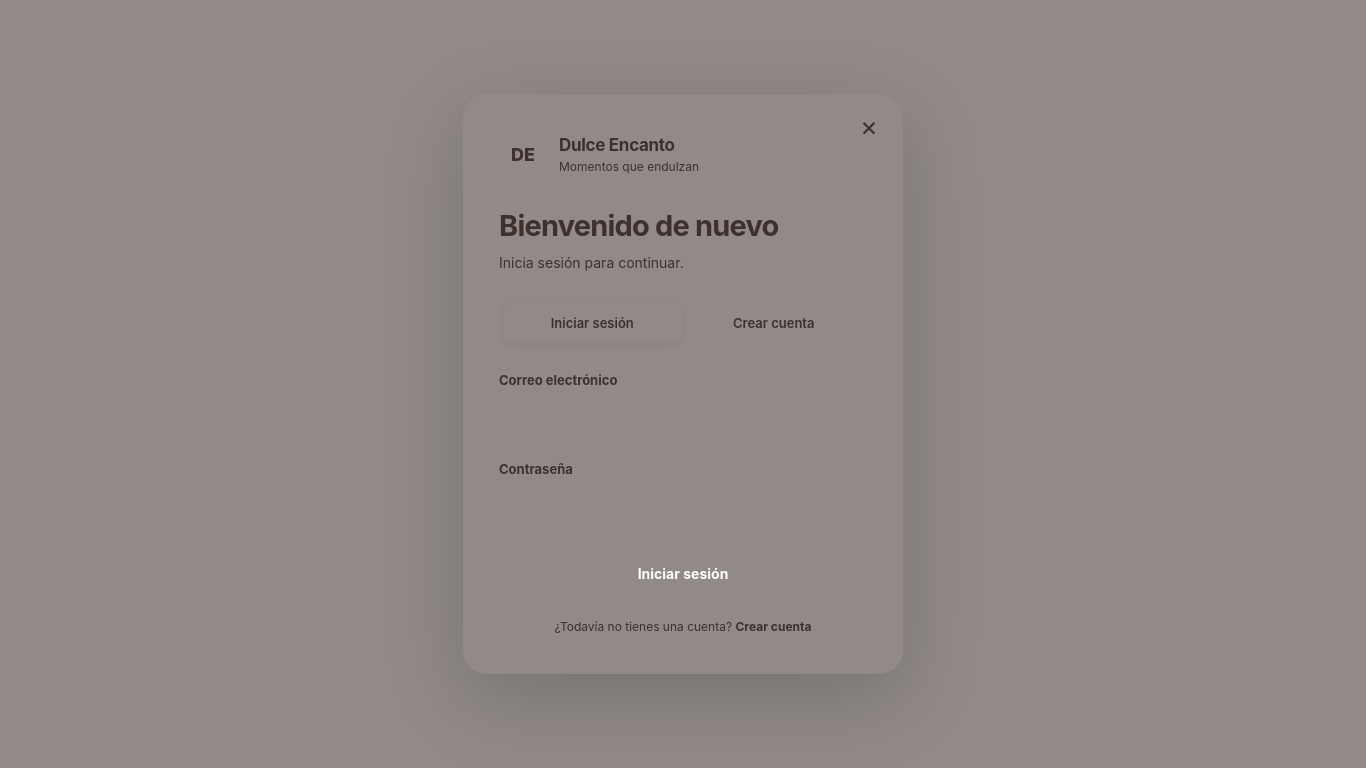
Test: Auth › permite volver del registro al inicio de sesión desde la pestaña superior
Click the 1st button "Crear cuenta".
click(774, 323)  # box [686,303,862,343]
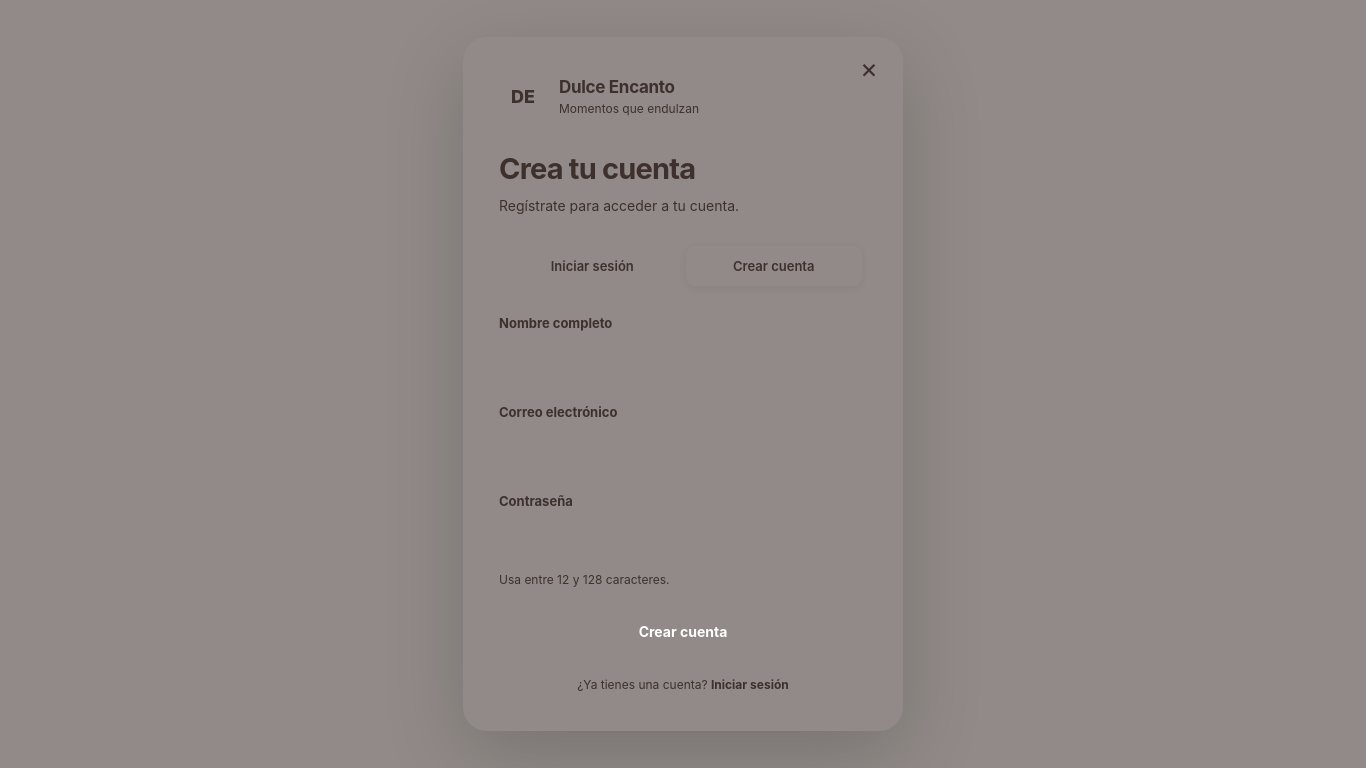
Click the 1st button "Iniciar sesión".
click(592, 266)  # box [504,246,680,286]
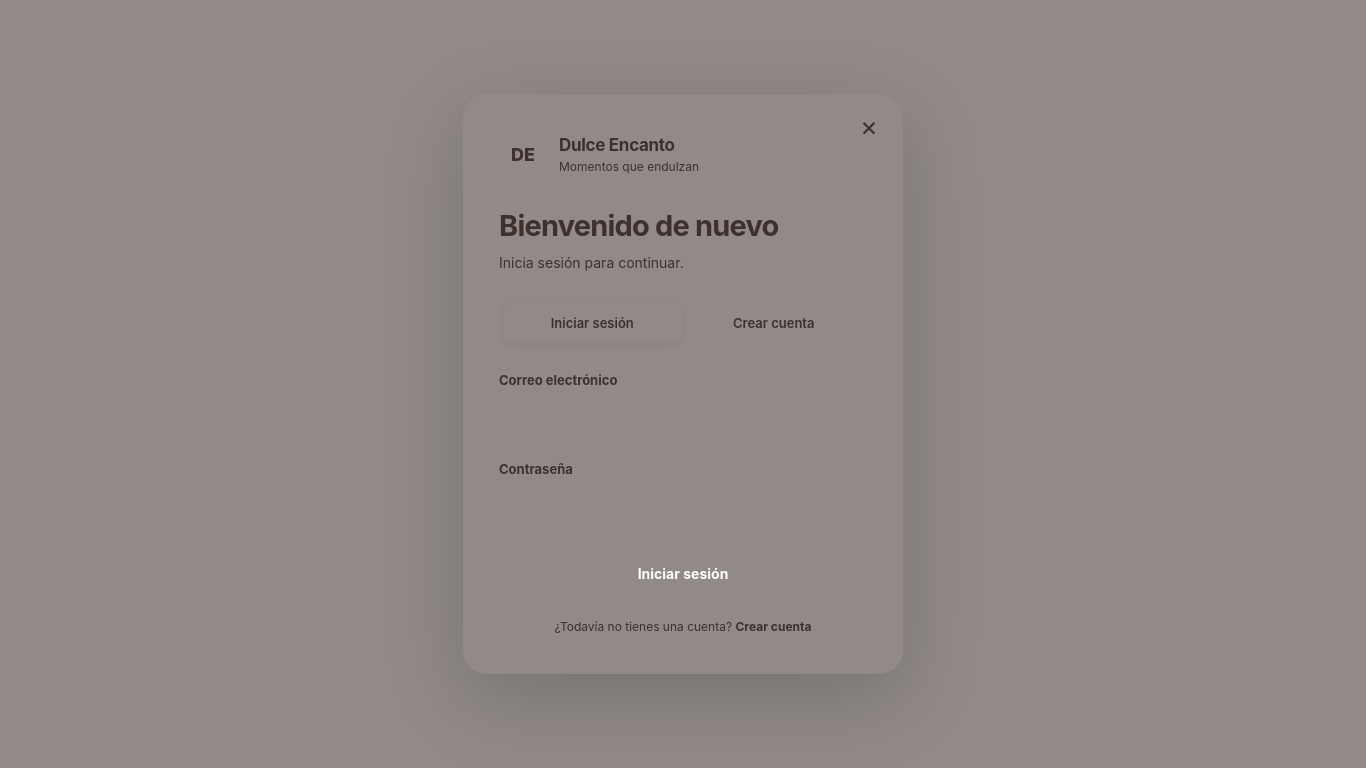
Expected: the heading "Bienvenido de nuevo" is shown, [499,208,779,243]
